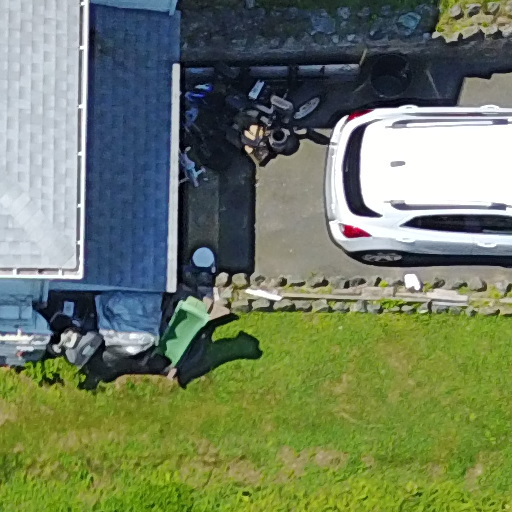clutter: (182, 51, 335, 192)
container: (265, 123, 296, 155)
garbage bin: (358, 50, 416, 101)
